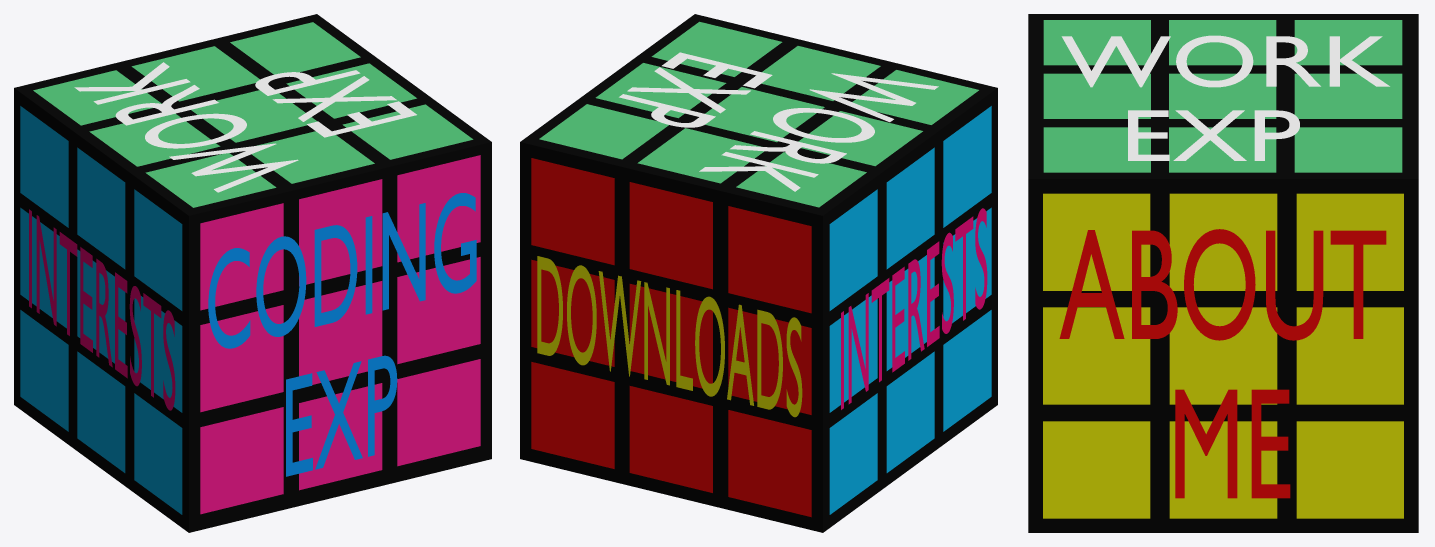
The model's file is rubiks_text.glb.
3 views of the same model, side by side, from view 1: azimuth 30°, elevation 25°; view 2: azimuth 150°, elevation 25°; view 3: azimuth 270°, elevation 25° (orthographic). The views are drawn at different scales.
Parts seen in each view (by area): view 1: Cube, Text.003, Text.004, Text.002; view 2: Cube, Text, Text.004, Text.002; view 3: Cube, Text.001, Text.004.
Boxes of the visible parts, x1,y1,x2,y2 form: Cube: (14,14,491,532); Text.003: (208,193,476,476); Text.004: (74,62,416,192); Text.002: (29,209,175,410); Cube: (520,14,997,532); Text: (537,256,802,417); Text.004: (619,52,938,191); Text.002: (841,208,987,409); Cube: (1028,14,1418,532); Text.001: (1059,229,1386,498); Text.004: (1061,35,1389,160).
Bounding box in the file's own units: 2.02 × 2.02 × 2.02.
